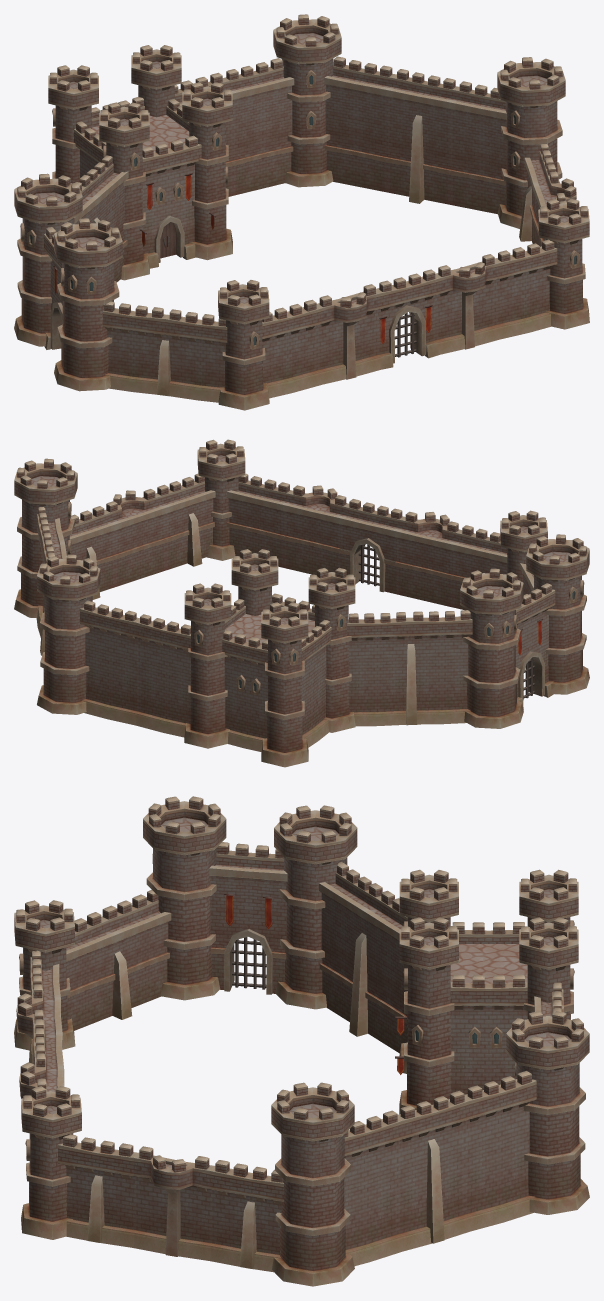
Rendered from castlePreview.FBX.
The picture shows the model from 3 angles, top to bottom: view 1: azimuth 30°, elevation 25°; view 2: azimuth 150°, elevation 25°; view 3: azimuth 270°, elevation 25°; orthographic projection. The views are drawn at different scales.
Parts seen in each view (by area): view 1: castleWalls_tower_009, castleWalls_bigWall_009, castleWalls_tower_3, castleWalls_bigWall_008, castleWalls_bigWall_005, castleWalls_tower_007, castleWalls_bigWall_010, castleWalls_bigWall_011, castleWalls_tower_008, castleWalls_tower_004, castleWalls_tower_1, castleWalls_smallWall_012 (+19 smaller); view 2: castleWalls_tower_008, castleWalls_tower_3, castleWalls_bigWall_1, castleWalls_tower_009, castleWalls_tower_006, castleWalls_tower_005, castleWalls_bigWall_012, castleWalls_bigWall_008, castleWalls_bigWall_006, castleWalls_tower_007, castleWalls_smallWall_012, castleWalls_smallWall_013 (+17 smaller); view 3: castleWalls_tower_007, castleWalls_tower_3, castleWalls_tower_009, castleWalls_tower_008, castleWalls_bigWall_2, castleWalls_bigWall_009, castleWalls_tower_004, castleWalls_bigWall_010, castleWalls_bigWall_005, castleWalls_smallWall_011, castleWalls_bigWall_011, castleWalls_tower_010 (+21 smaller).
Boxes of the visible parts, x1=… form: castleWalls_tower_009: x1=54, y1=218, x2=122, y2=391; castleWalls_bigWall_009: x1=324, y1=56, x2=396, y2=192; castleWalls_tower_3: x1=273, y1=14, x2=341, y2=187; castleWalls_bigWall_008: x1=222, y1=58, x2=294, y2=195; castleWalls_bigWall_005: x1=74, y1=99, x2=201, y2=268; castleWalls_tower_007: x1=497, y1=57, x2=565, y2=228; castleWalls_bigWall_010: x1=386, y1=69, x2=459, y2=204; castleWalls_bigWall_011: x1=449, y1=81, x2=506, y2=214; castleWalls_tower_008: x1=14, y1=173, x2=82, y2=346; castleWalls_tower_004: x1=182, y1=82, x2=232, y2=260; castleWalls_tower_1: x1=218, y1=280, x2=269, y2=410; castleWalls_smallWall_012: x1=316, y1=284, x2=380, y2=384; castleWalls_tower_008: x1=460, y1=568, x2=523, y2=728; castleWalls_tower_3: x1=37, y1=554, x2=100, y2=714; castleWalls_bigWall_1: x1=347, y1=612, x2=409, y2=726; castleWalls_tower_009: x1=526, y1=534, x2=589, y2=694; castleWalls_tower_006: x1=261, y1=602, x2=308, y2=767; castleWalls_tower_005: x1=184, y1=583, x2=231, y2=748; castleWalls_bigWall_012: x1=409, y1=610, x2=472, y2=724; castleWalls_bigWall_008: x1=80, y1=600, x2=139, y2=725; castleWalls_bigWall_006: x1=135, y1=614, x2=190, y2=737; castleWalls_tower_007: x1=14, y1=458, x2=77, y2=618; castleWalls_smallWall_012: x1=395, y1=511, x2=461, y2=607; castleWalls_smallWall_013: x1=283, y1=485, x2=349, y2=575; castleWalls_tower_007: x1=271, y1=1082, x2=354, y2=1286; castleWalls_tower_3: x1=506, y1=1011, x2=589, y2=1214; castleWalls_tower_009: x1=143, y1=796, x2=226, y2=1000; castleWalls_tower_008: x1=274, y1=805, x2=357, y2=1009; castleWalls_bigWall_2: x1=209, y1=842, x2=287, y2=994; castleWalls_bigWall_009: x1=464, y1=1071, x2=536, y2=1231; castleWalls_tower_004: x1=399, y1=917, x2=458, y2=1114; castleWalls_bigWall_010: x1=397, y1=1090, x2=469, y2=1251; castleWalls_bigWall_005: x1=450, y1=922, x2=527, y2=1094; castleWalls_smallWall_011: x1=133, y1=1146, x2=215, y2=1260; castleWalls_bigWall_011: x1=344, y1=1110, x2=402, y2=1266; castleWalls_tower_010: x1=21, y1=1086, x2=81, y2=1239.
Size of the model in its own units: 2791 by 751 by 2112.
1 material, 1 textured.
